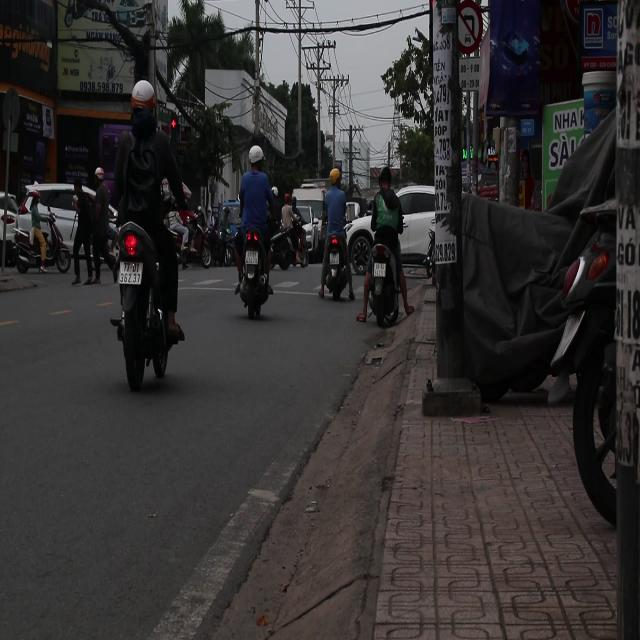car: (23, 184, 93, 262), (399, 187, 440, 273)
motorbike: (112, 218, 170, 389), (242, 230, 274, 348), (366, 238, 395, 342), (318, 219, 344, 321), (201, 215, 235, 269), (269, 213, 298, 273), (186, 208, 214, 267)
truck: (291, 186, 326, 234)
